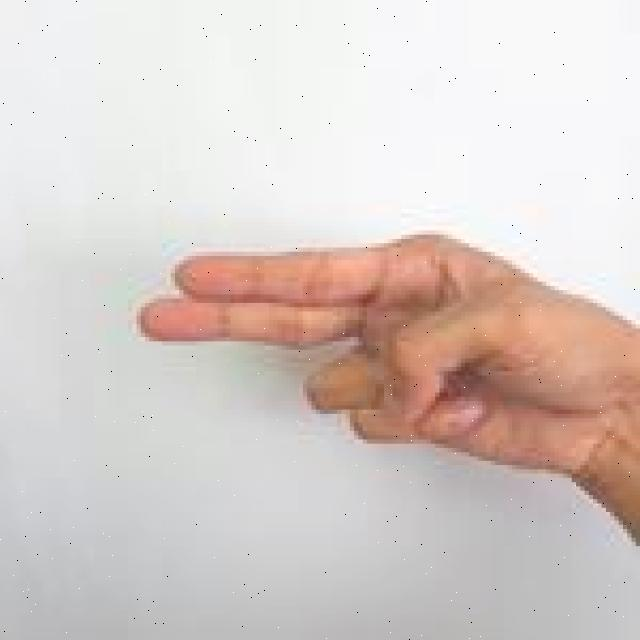H: (132, 228, 640, 551)
